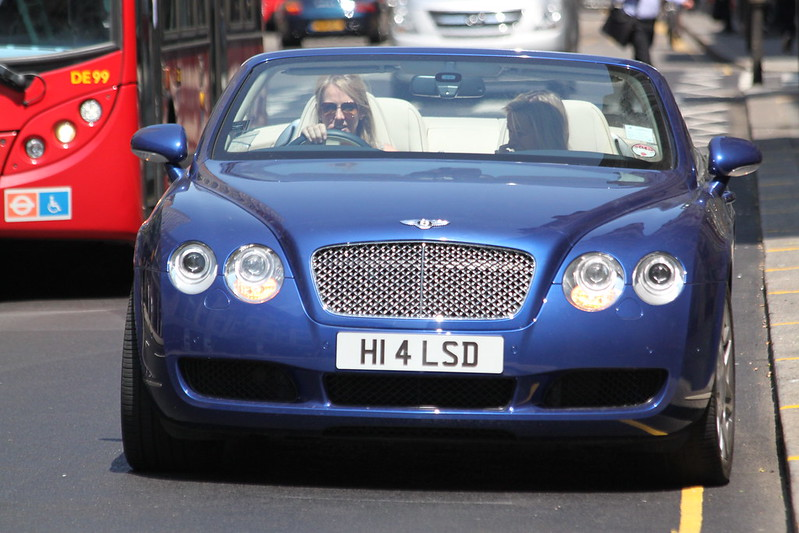number_plate: (325, 325, 511, 384)
